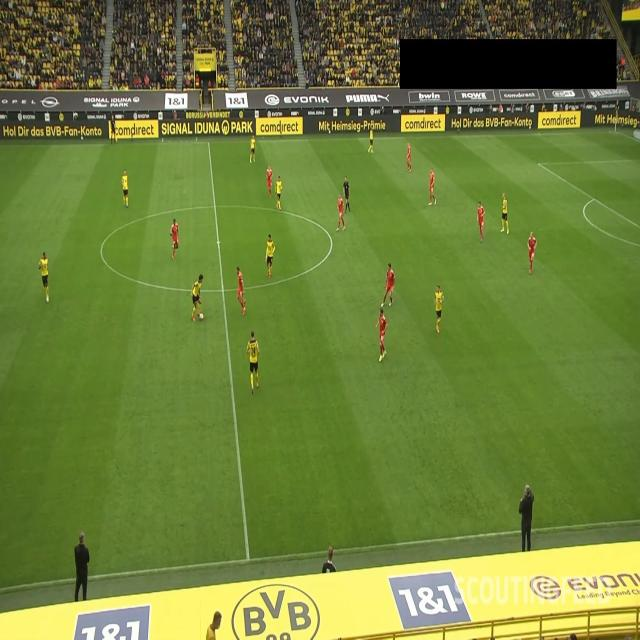ball: (199, 312, 204, 322)
